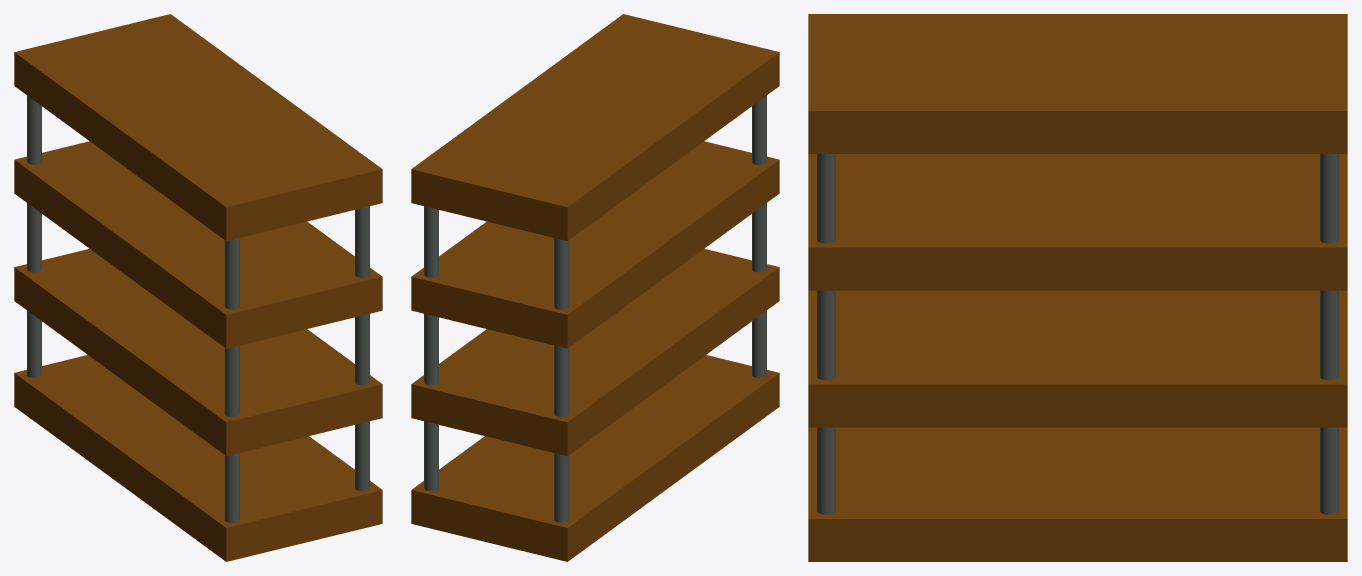
File: Shelf.fbx
3 renders of one model, left to right at view 1: azimuth 30°, elevation 25°; view 2: azimuth 150°, elevation 25°; view 3: azimuth 270°, elevation 25°, orthographic. The views are drawn at different scales.
Parts seen in each view (by area): view 1: Shelf 4, Shelf 3, Shelf 2, Shelf 1, Leg 4, Leg 2, Leg 3; view 2: Shelf 4, Shelf 3, Shelf 2, Shelf 1, Leg 3, Leg 1, Leg 4; view 3: Shelf 4, Shelf 2, Shelf 3, Shelf 1, Leg 1, Leg 2.
Boxes of the visible parts, x1,y1,x2,y2 form: Shelf 4: (14, 14, 382, 240); Shelf 3: (14, 141, 382, 348); Shelf 2: (14, 248, 382, 456); Shelf 1: (14, 355, 382, 561); Leg 4: (224, 238, 239, 522); Leg 2: (355, 206, 369, 490); Leg 3: (27, 95, 41, 377); Shelf 4: (411, 14, 779, 240); Shelf 3: (411, 141, 779, 348); Shelf 2: (411, 248, 779, 456); Shelf 1: (411, 355, 779, 561); Leg 3: (554, 238, 569, 522); Leg 1: (424, 206, 438, 490); Leg 4: (752, 95, 766, 377); Shelf 4: (808, 14, 1347, 153); Shelf 2: (808, 290, 1347, 427); Shelf 3: (808, 154, 1347, 290); Shelf 1: (808, 427, 1347, 561); Leg 1: (1320, 154, 1338, 514); Leg 2: (817, 154, 835, 514).
Size of the model in its own units: 320 by 693 by 751.
